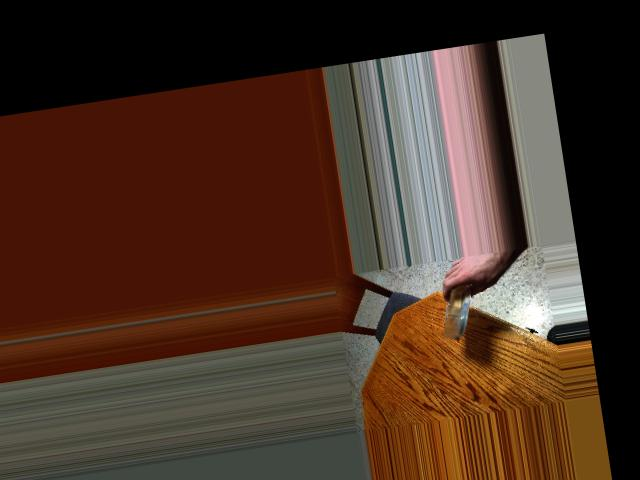cheese: (432, 283, 479, 334)
